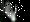person: (5, 1, 21, 22)
